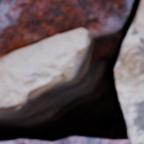brick: (0, 0, 132, 57), (55, 138, 131, 143), (0, 141, 51, 143)
crack: (0, 0, 142, 143)
